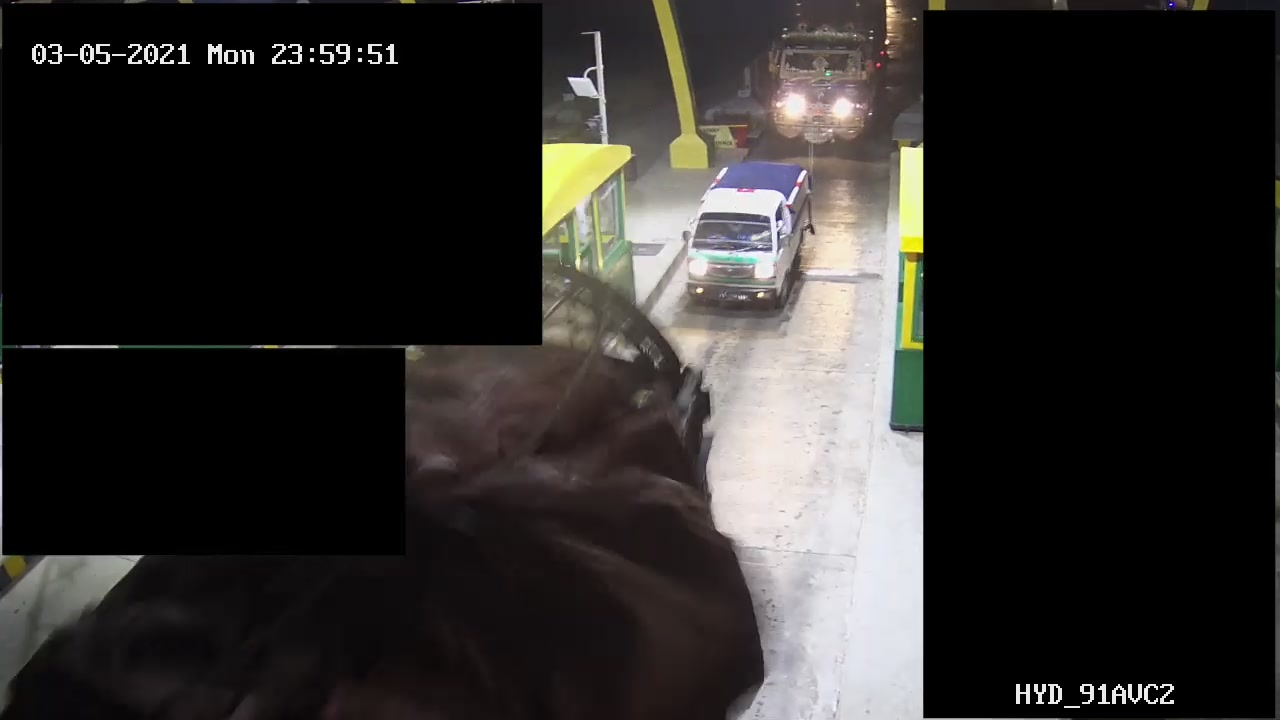F1: (675, 156, 813, 315)
